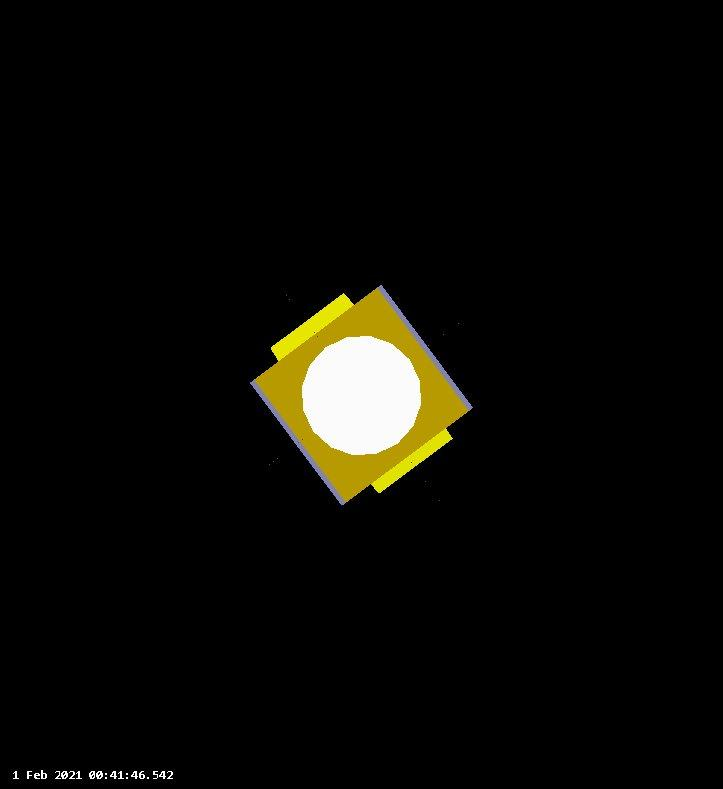body: (248, 282, 478, 508)
